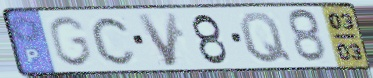8: (286, 8, 328, 66), (190, 13, 229, 66)
C: (89, 14, 140, 67)
G: (46, 14, 94, 69)
Q: (237, 10, 295, 65)
V: (133, 10, 180, 68)
